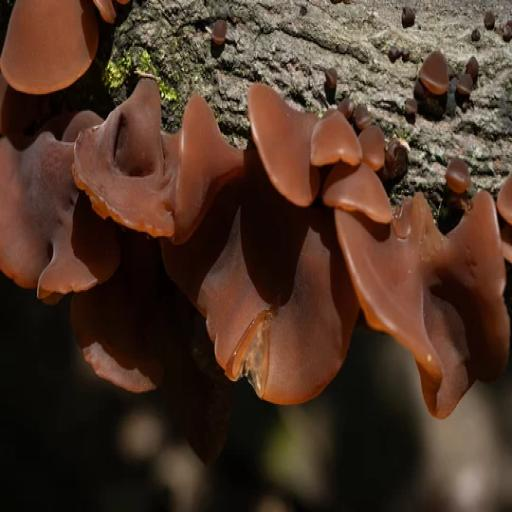Wood Ear Mushroom: (337, 190, 511, 432), (191, 186, 365, 416), (77, 83, 249, 246), (0, 95, 121, 309), (236, 79, 398, 222), (0, 0, 135, 97)
